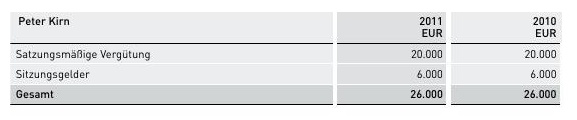table: (0, 0, 577, 120)
